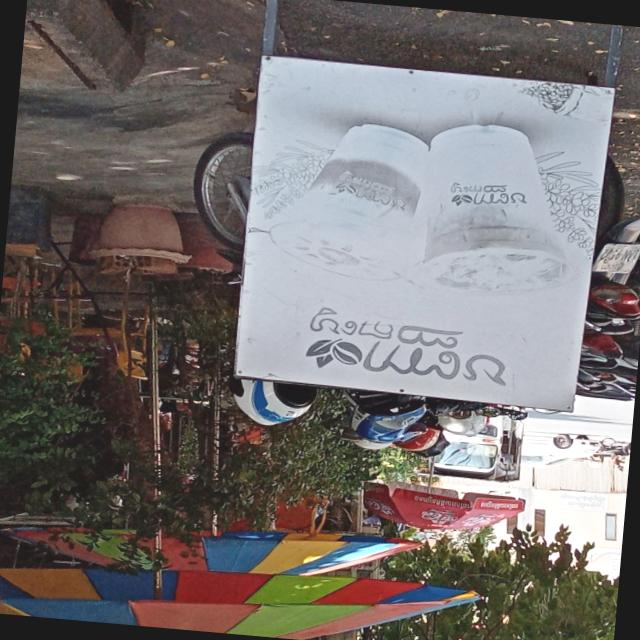Yolov11_80vkh: (270, 315, 549, 401), (288, 301, 404, 350)
